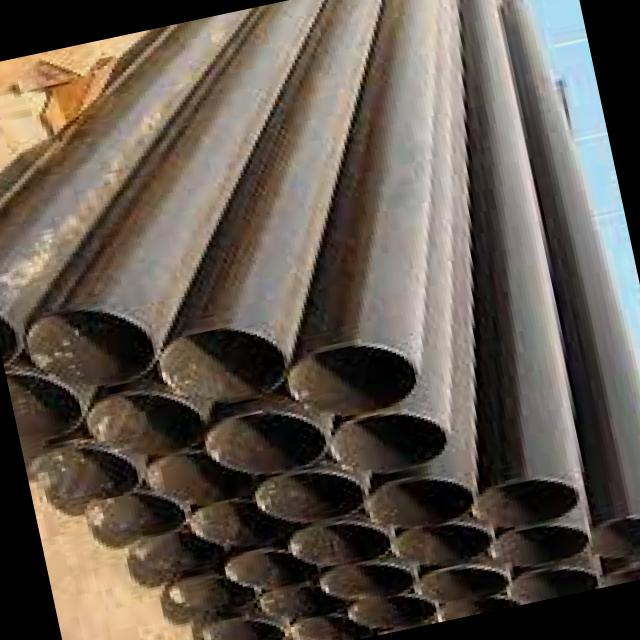gas: (0, 0, 319, 364), (157, 0, 382, 402), (501, 0, 640, 558), (458, 0, 580, 527), (285, 0, 435, 415), (329, 142, 453, 475)
